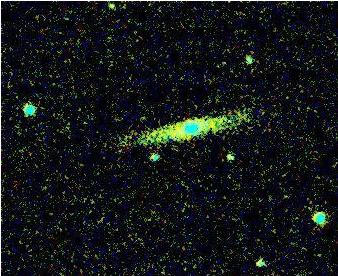star: (97, 0, 127, 23)
